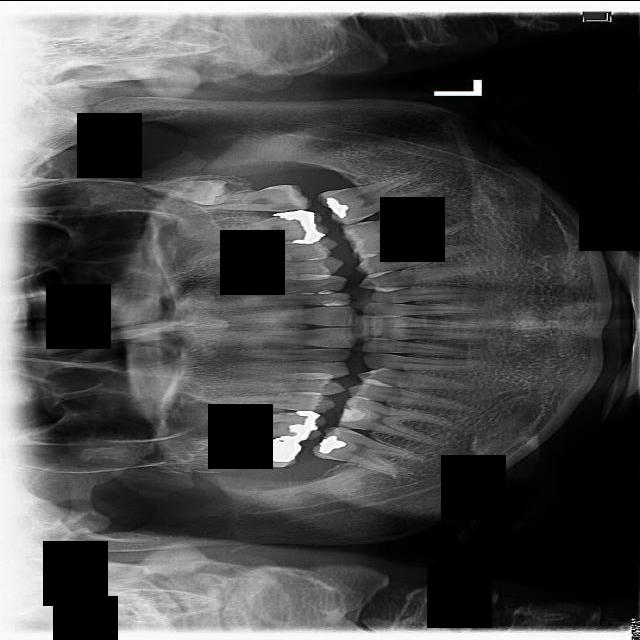74: (200, 436, 252, 448), (195, 442, 250, 452), (203, 450, 254, 454)
NucleOSS Implant: (273, 197, 326, 253), (276, 403, 325, 455), (248, 437, 301, 462), (317, 430, 347, 455), (323, 193, 351, 219)
Sterngold Implant: (270, 201, 303, 212), (347, 221, 365, 228), (339, 422, 357, 429), (334, 426, 350, 432), (316, 360, 337, 364)
Straumann Implant: (341, 403, 368, 421), (323, 298, 349, 305), (314, 288, 336, 294)
